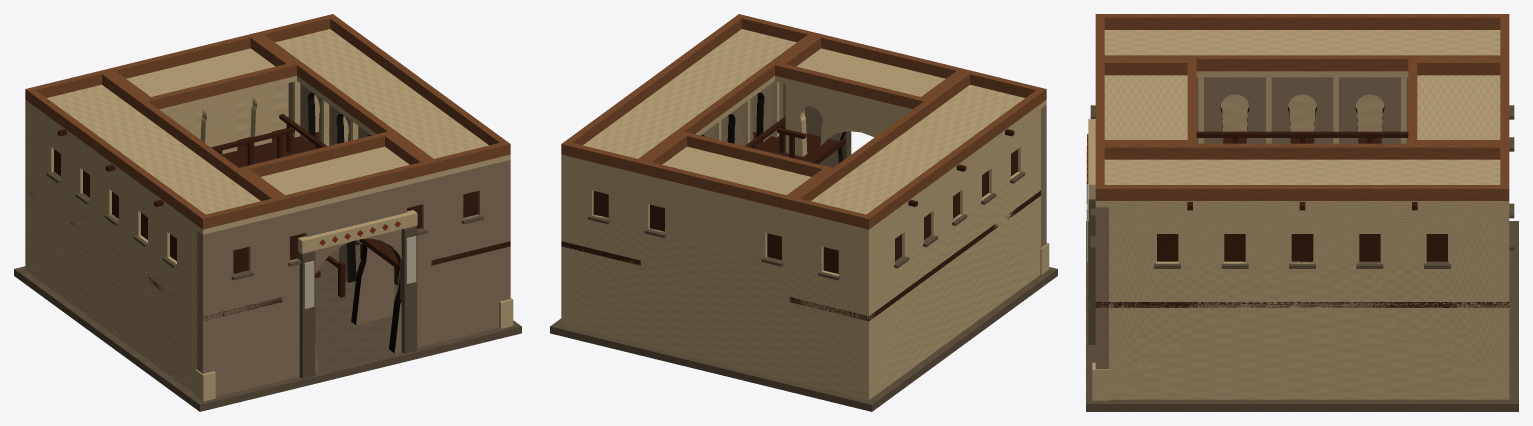
Rendered from Berber_Funduq_Age4.fbx.
3 renders of one model, left to right at view 1: azimuth 30°, elevation 25°; view 2: azimuth 150°, elevation 25°; view 3: azimuth 270°, elevation 25°, orthographic. The views are drawn at different scales.
Visible parts, largest first — view 1: south_outer_wall, west_outer_wall, foundation, west_roof, east_roof, south_roof, north_roof, west_roof_parapet, west_roof_parapet.001, east_roof_parapet.001, north_merchant_rooms, north_outer_wall (+26 smaller); view 2: north_outer_wall, west_outer_wall, west_roof, east_roof, foundation, south_merchant_rooms, north_roof, south_roof, west_roof_parapet, west_roof_parapet.001, east_roof_parapet.001, east_roof_parapet (+17 smaller); view 3: east_outer_wall, east_roof, west_roof, west_merchant_room_front, foundation, east_roof_parapet, east_roof_parapet.001, west_roof_parapet, north_roof, south_roof, west_roof_parapet.001, west_outer_wall (+20 smaller).
Boxes of the visible parts, left/top/right/bottom form: south_outer_wall: left=197, top=160, right=510, bottom=396; west_outer_wall: left=31, top=109, right=197, bottom=394; foundation: left=14, top=244, right=521, bottom=411; west_roof: left=25, top=84, right=282, bottom=234; east_roof: left=275, top=29, right=510, bottom=178; south_roof: left=260, top=146, right=431, bottom=215; north_roof: left=126, top=48, right=296, bottom=113; west_roof_parapet: left=25, top=87, right=209, bottom=229; west_roof_parapet.001: left=98, top=69, right=282, bottom=211; east_roof_parapet.001: left=327, top=14, right=510, bottom=155; north_merchant_rooms: left=165, top=87, right=271, bottom=154; north_outer_wall: left=25, top=83, right=288, bottom=273; north_outer_wall: left=561, top=160, right=874, bottom=399; west_outer_wall: left=874, top=109, right=1040, bottom=395; west_roof: left=789, top=84, right=1046, bottom=234; east_roof: left=561, top=29, right=796, bottom=178; foundation: left=550, top=267, right=1057, bottom=411; south_merchant_rooms: left=785, top=83, right=906, bottom=156; north_roof: left=640, top=146, right=811, bottom=215; south_roof: left=775, top=48, right=945, bottom=113; west_roof_parapet: left=862, top=87, right=1046, bottom=229; west_roof_parapet.001: left=789, top=69, right=973, bottom=211; east_roof_parapet.001: left=561, top=14, right=744, bottom=155; east_roof_parapet: left=634, top=32, right=817, bottom=173; east_outer_wall: left=1109, top=207, right=1495, bottom=399; east_roof: left=1095, top=159, right=1509, bottom=207; west_roof: left=1104, top=30, right=1500, bottom=77; west_merchant_room_front: left=1196, top=77, right=1408, bottom=143; foundation: left=1086, top=221, right=1518, bottom=411; east_roof_parapet: left=1095, top=143, right=1509, bottom=159; east_roof_parapet.001: left=1095, top=185, right=1509, bottom=200; west_roof_parapet: left=1095, top=14, right=1509, bottom=29; north_roof: left=1417, top=75, right=1500, bottom=139; south_roof: left=1104, top=75, right=1187, bottom=139; west_roof_parapet.001: left=1095, top=55, right=1509, bottom=71; west_outer_wall: left=1221, top=94, right=1383, bottom=131.
Size of the model in its own units: 770 by 430 by 770.
Materials: 8 (8 with a texture image).
